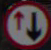Two way: (4, 2, 45, 46)
